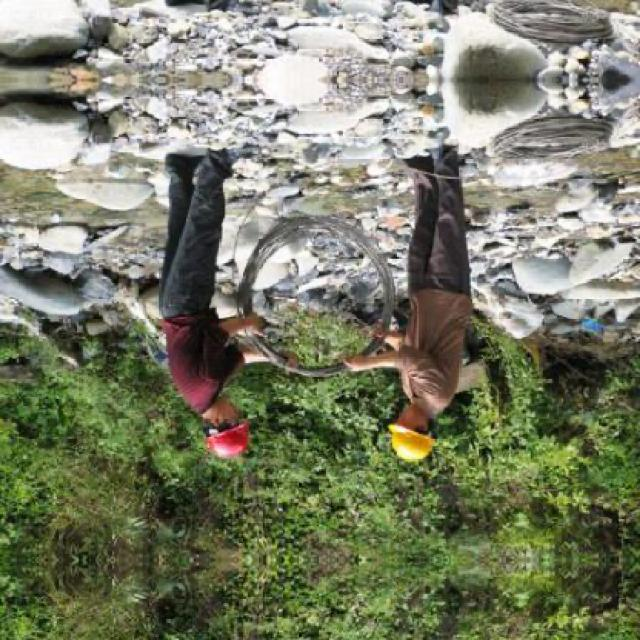con casco: (386, 364, 480, 486), (176, 371, 280, 464)
